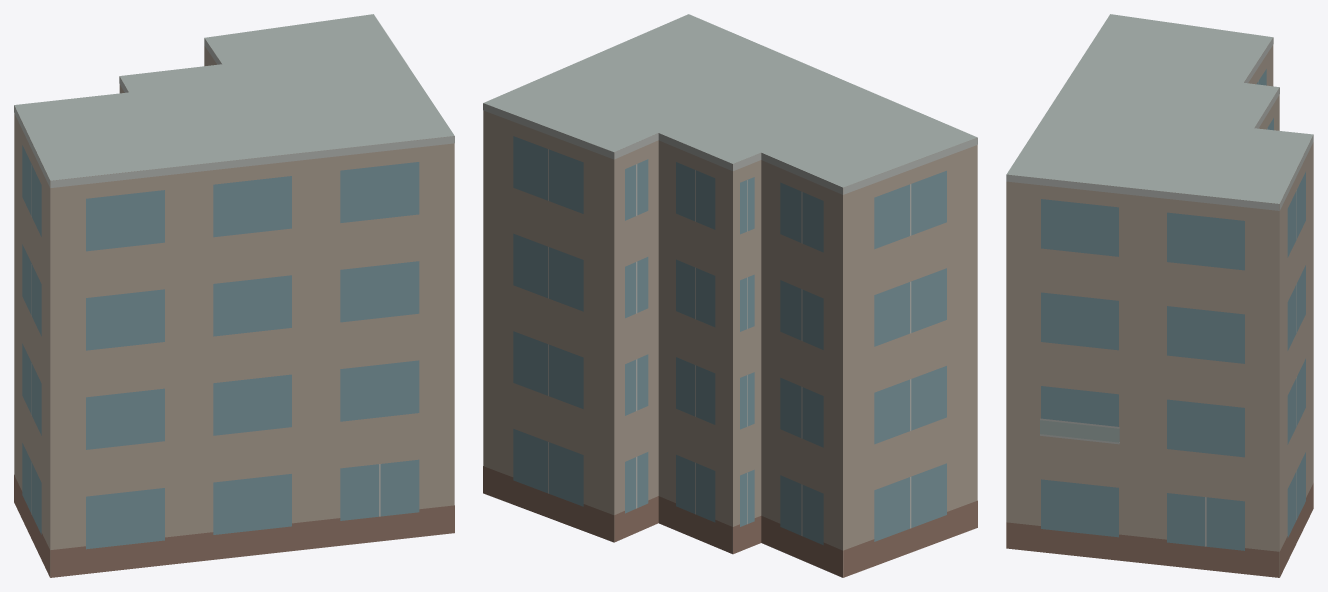
The model's file is survey-upis-32466219.glb.
3 views of the same model, side by side, from view 1: azimuth 30°, elevation 25°; view 2: azimuth 150°, elevation 25°; view 3: azimuth 270°, elevation 25° (orthographic). The views are drawn at different scales.
Parts seen in each view (by area): view 1: survey-upis-32466219.tmp; view 2: survey-upis-32466219.tmp; view 3: survey-upis-32466219.tmp.
Part boxes in pixels (x1,y1,x2,y2): survey-upis-32466219.tmp: [14, 14, 454, 577]; survey-upis-32466219.tmp: [483, 14, 977, 577]; survey-upis-32466219.tmp: [1006, 14, 1313, 577].
Size of the model in its own units: 14.17 by 13 by 9.69.
